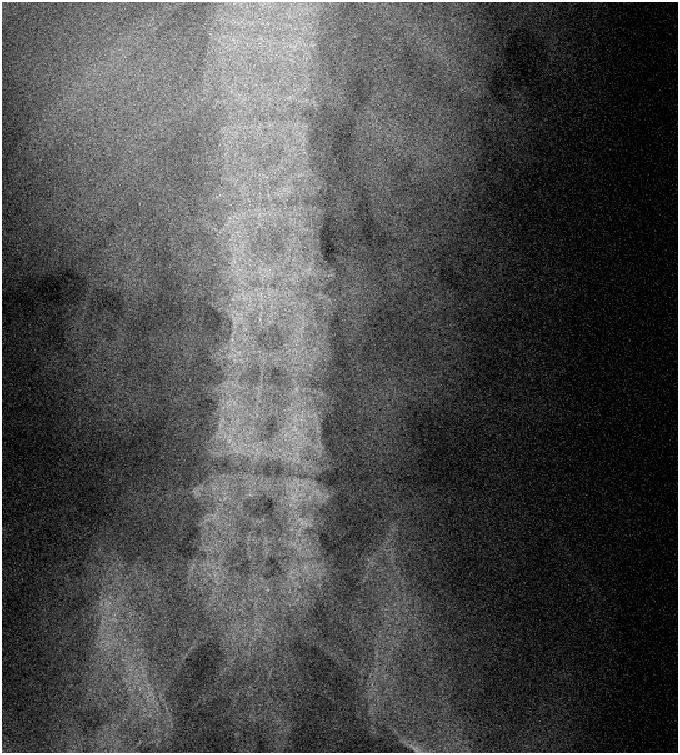lumbar scoliosis: (197, 145, 336, 602)
